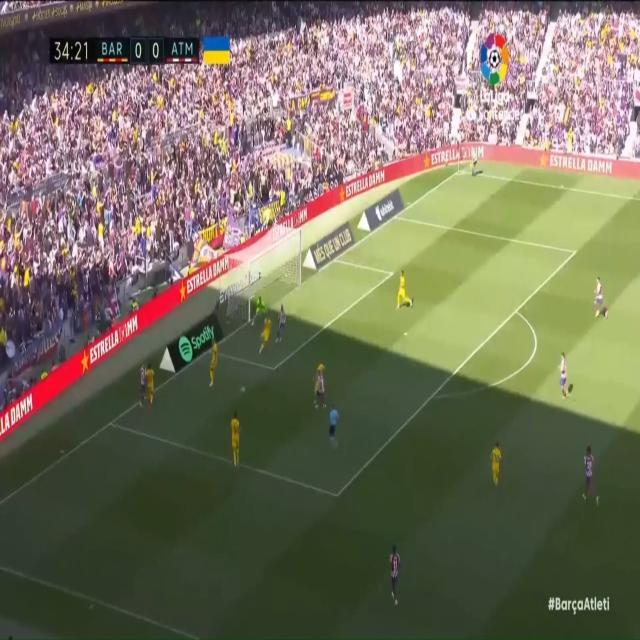ball: (238, 383, 247, 398)
goalkeeper: (250, 283, 268, 329)
player: (581, 442, 603, 510), (487, 444, 506, 501), (391, 534, 405, 607), (228, 409, 243, 472), (593, 272, 611, 322), (144, 361, 161, 411), (212, 339, 227, 393), (257, 314, 273, 363), (558, 350, 574, 398), (316, 361, 330, 413), (132, 359, 144, 409), (397, 269, 410, 315), (275, 301, 288, 344), (311, 374, 321, 424)
referee: (327, 404, 343, 457), (470, 143, 480, 180)
